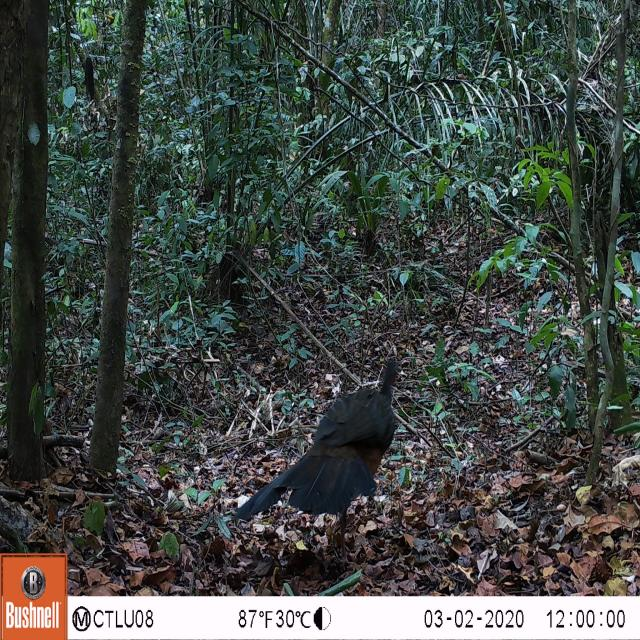Spixs Guan: (224, 352, 408, 546)
